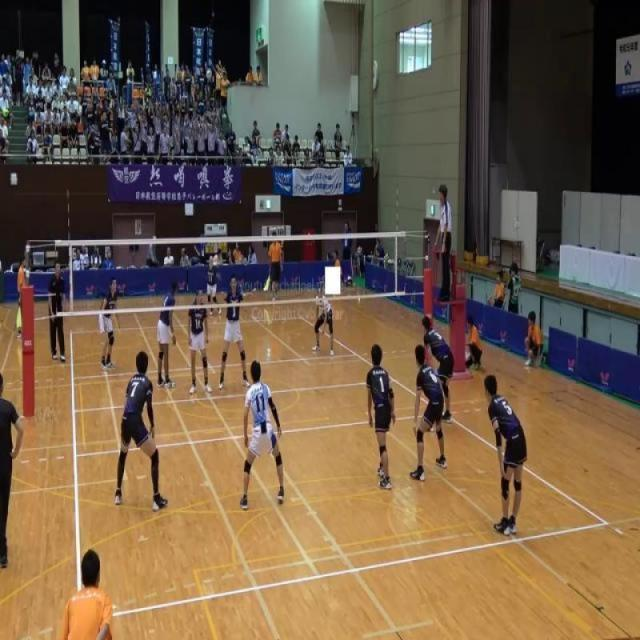volleyball: (206, 69, 212, 80)
